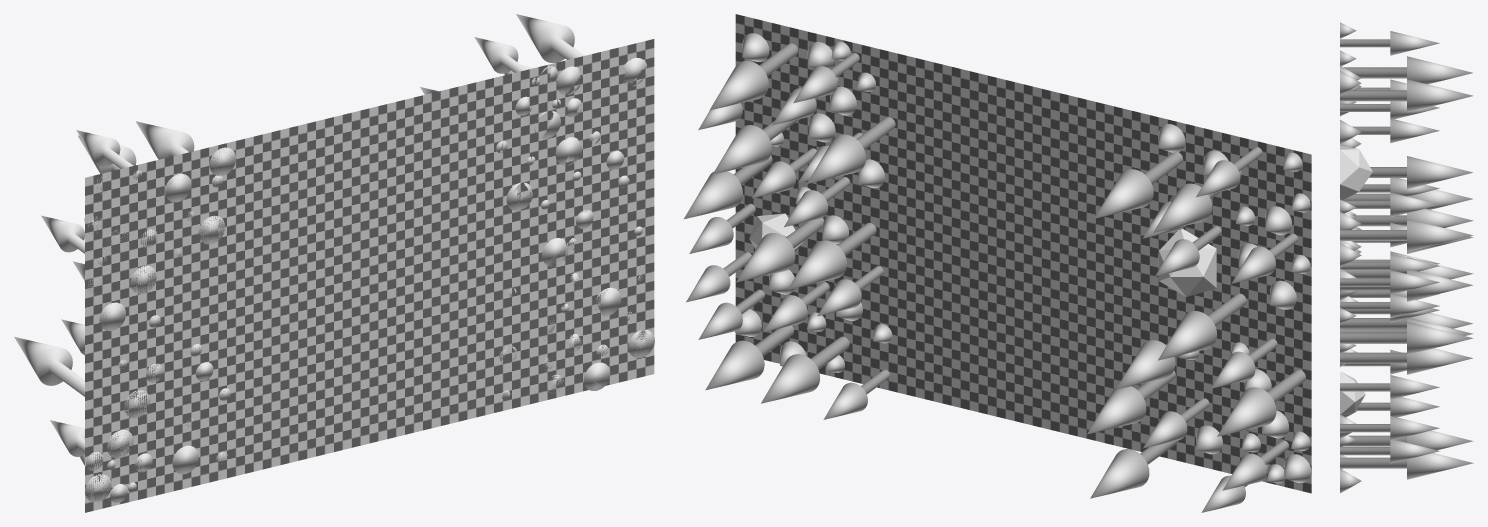
Rendered from forest9.dae.
The picture shows the model from 3 angles, left to right: view 1: azimuth 30°, elevation 25°; view 2: azimuth 150°, elevation 25°; view 3: azimuth 270°, elevation 25°; orthographic projection. The views are drawn at different scales.
Visible parts, largest first — view 1: Plane.008, Cone.347, Cone.313, Cone.406, Cone.439, Cone.423, Cone.343, Cone.321; view 2: Plane.008, Cone.347, Cone.436, Cone.421, Cone.313, Cone.438, Cone.406, Cone.411, Cone.312, Cone.417, Icosphere.012, Cone.405 (+23 smaller); view 3: Cone.320, Cone.406, Cone.313, Cone.417, Cone.312, Cone.330, Cone.411, Cone.421, Cone.404, Icosphere.012, Cone.405, Cone.369 (+28 smaller).
Part boxes in pixels (box(x1,y1,x2,y2)): Plane.008: box(85, 39, 654, 512); Cone.347: box(14, 337, 98, 401); Cone.313: box(516, 14, 584, 62); Cone.406: box(136, 121, 223, 187); Cone.439: box(76, 130, 141, 179); Cone.423: box(474, 37, 540, 86); Cone.343: box(41, 215, 106, 265); Cone.321: box(50, 420, 115, 469); Plane.008: box(735, 14, 1311, 493); Cone.347: box(1217, 369, 1305, 436); Cone.436: box(787, 223, 876, 289); Cone.421: box(761, 336, 849, 403); Cone.313: box(710, 43, 798, 110); Cone.438: box(807, 117, 895, 183); Cone.406: box(1094, 152, 1183, 218); Cone.411: box(1158, 293, 1246, 360); Cone.312: box(705, 325, 793, 390); Cone.417: box(736, 218, 823, 282); Icosphere.012: box(1158, 228, 1216, 296); Cone.405: box(1090, 440, 1178, 498); Cone.320: box(1340, 321, 1473, 354); Cone.406: box(1340, 79, 1473, 112); Cone.313: box(1340, 219, 1473, 251); Cone.417: box(1340, 348, 1472, 374); Cone.312: box(1340, 453, 1473, 479); Cone.330: box(1343, 56, 1472, 84); Cone.411: box(1369, 156, 1472, 189); Cone.421: box(1344, 430, 1473, 450); Cone.404: box(1353, 208, 1473, 227); Icosphere.012: box(1340, 145, 1372, 200); Cone.405: box(1340, 312, 1472, 328); Cone.369: box(1340, 268, 1472, 301).
Size of the model in its own units: 64.84 by 16 by 36.7.
